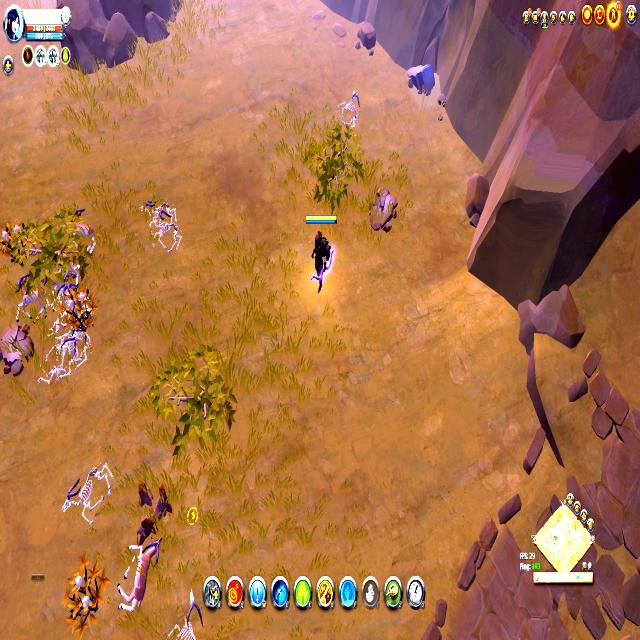hide: (63, 553, 109, 636), (62, 287, 96, 342), (0, 218, 32, 269)
mob: (116, 530, 160, 617), (0, 317, 31, 380), (15, 274, 49, 324), (70, 205, 98, 257)
red: (304, 208, 338, 292)
